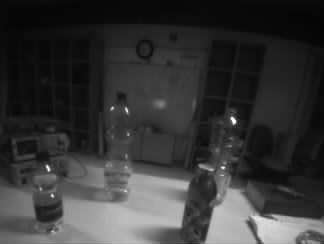Bottle: (208, 106, 238, 204), (104, 92, 131, 199), (185, 166, 213, 244), (34, 154, 62, 228)
